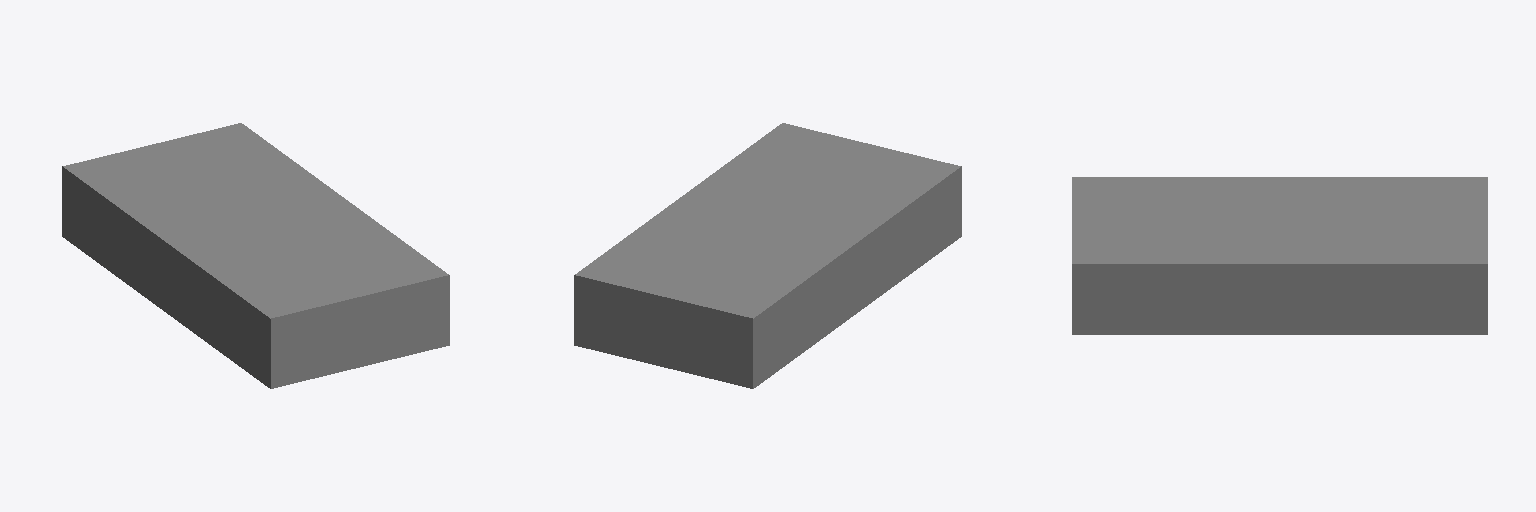
File: map1.obj
The picture shows the model from 3 angles: view 1: azimuth 30°, elevation 25°; view 2: azimuth 150°, elevation 25°; view 3: azimuth 270°, elevation 25°; orthographic projection.
Parts seen in each view (by area): view 1: model_01_model; view 2: model_01_model; view 3: model_01_model.
Boxes of the visible parts, x1,y1,x2,y2 form: model_01_model: [62, 123, 449, 388]; model_01_model: [574, 123, 961, 388]; model_01_model: [1072, 177, 1487, 334].
Bounding box in the file's own units: 1439 × 542 × 2896.